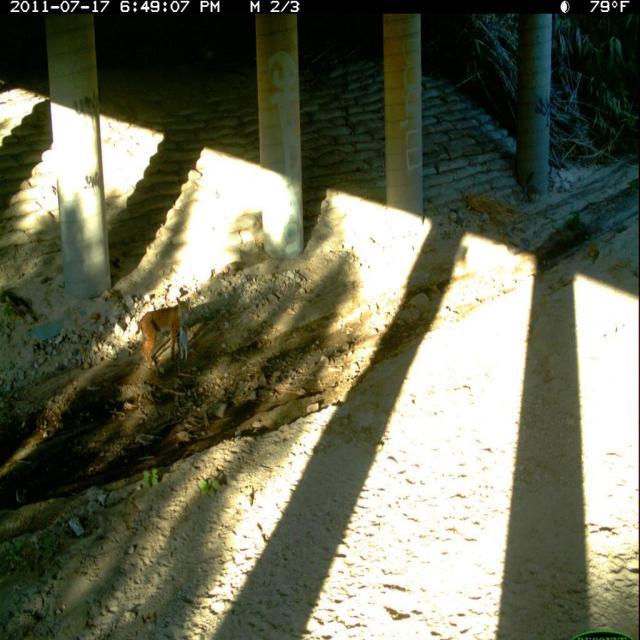bobcat: (133, 291, 196, 374)
rabbit: (178, 310, 192, 365)
